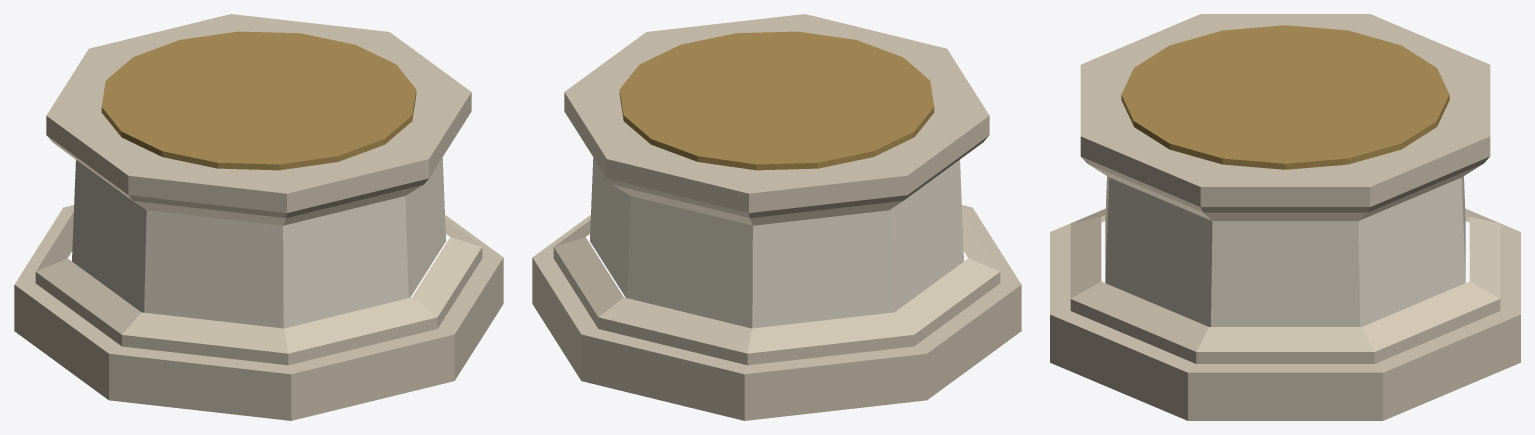
File: statue-pedestal.glb
3 views of the same model, side by side, from view 1: azimuth 30°, elevation 25°; view 2: azimuth 150°, elevation 25°; view 3: azimuth 270°, elevation 25° (orthographic). The views are drawn at different scales.
Parts seen in each view (by area): view 1: statue-pedestal; view 2: statue-pedestal; view 3: statue-pedestal.
Part boxes in pixels (x1,y1,x2,y2): statue-pedestal: [14, 14, 503, 420]; statue-pedestal: [532, 14, 1021, 420]; statue-pedestal: [1050, 14, 1520, 420].
Size of the model in its own units: 2.12 by 1.13 by 2.12.
